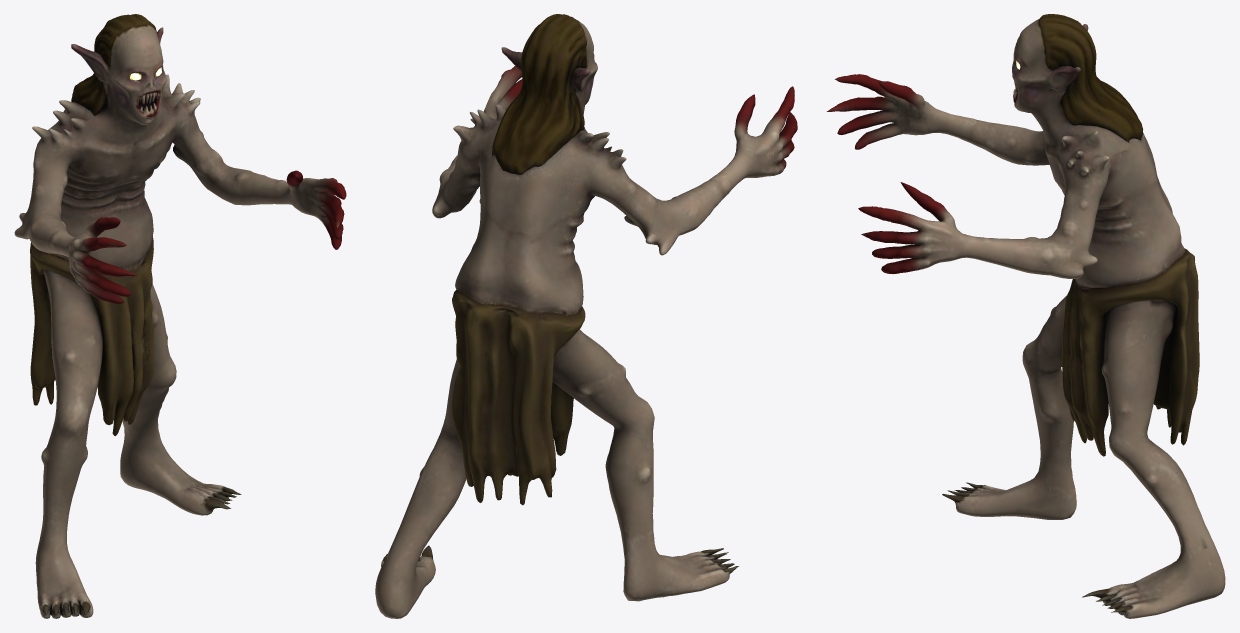
Rendered from MZ4250 - Maurezhi.glb.
The picture shows the model from 3 angles, left to right: view 1: azimuth 30°, elevation 25°; view 2: azimuth 150°, elevation 25°; view 3: azimuth 270°, elevation 25°; orthographic projection. The views are drawn at different scales.
Visible parts, largest first — view 1: Body.002; view 2: Body.002; view 3: Body.002.
Boxes of the visible parts, x1,y1,x2,y2 form: Body.002: (14,14,346,618); Body.002: (375,14,797,618); Body.002: (827,14,1225,618).
Bounding box in the file's own units: 0.4943 × 0.9351 × 0.6247.
1 material, 1 textured.
